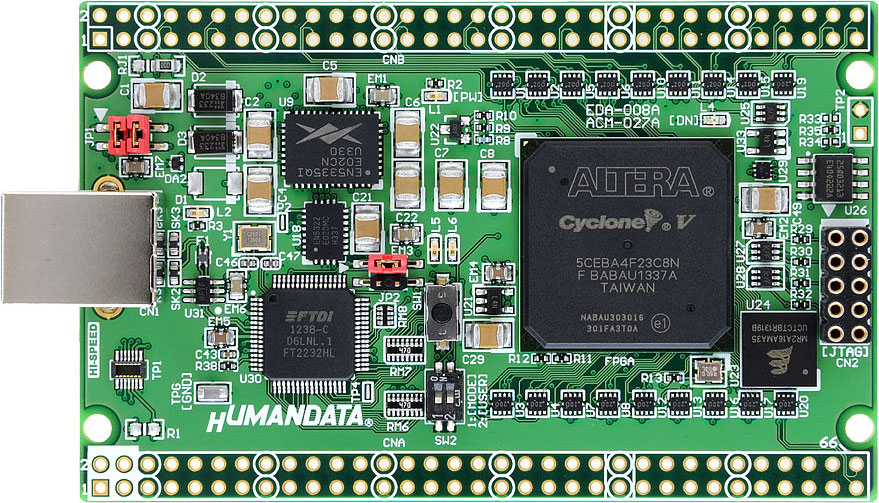button SW1: (424, 272, 460, 353)
capacitor C1: (131, 79, 184, 112)
capacitor C2: (245, 109, 276, 160)
capacitor C21: (352, 202, 383, 253)
capacitor C22: (393, 160, 422, 210)
capacitor C29: (463, 320, 512, 351)
capacitor C4: (245, 165, 275, 217)
capacitor C43: (218, 349, 238, 360)
capacitor C46: (239, 258, 258, 269)
capacitor C47: (261, 257, 281, 270)
capacitor C49: (740, 185, 790, 215)
capacitor C5: (305, 75, 355, 106)
capacitor C6: (392, 108, 423, 159)
capacitor C7: (436, 160, 466, 210)
capacitor C8: (479, 160, 509, 211)
component text" "1 2: (431, 409, 458, 421)
component text" "233 834DA: (197, 90, 229, 109), (198, 132, 228, 151)
component text" "25R03213 E400222A: (823, 158, 846, 199)
component text" "3 J: (454, 387, 462, 409)
component text" "ALTERA Cyclone V 5CEBA4F23C8N F BABAU1337A TAIWAN NABAU303016 3: (554, 163, 701, 336)
component text" "EN5322 E020MC H337: (311, 213, 340, 246)
component text" "EN5336QI E02CN U330: (295, 144, 365, 179)
component text" "FTDI 1238-C D6LNL.1 FT2232HL: (282, 306, 336, 362)
component text" "MR2A1BAMA35 UCTCT8R13198: (748, 322, 810, 343)
component text" "O N: (429, 374, 448, 382)
component text" 000: (160, 61, 170, 69)
component text" 470: (398, 400, 412, 410), (397, 346, 412, 354)
connector CN1: (1, 193, 156, 307)
connector CN2: (819, 219, 870, 344)
connector CNA: (89, 450, 869, 503)
connector CNB: (88, 6, 869, 51)
connector JP2: (351, 273, 426, 292)
connector TP2: (849, 98, 872, 146)
diode D2: (195, 84, 239, 116)
diode D3: (192, 126, 240, 158)
diode zener array" DA2: (165, 153, 183, 173)
emi filter" EM1: (368, 87, 399, 105)
emi filter" EM2: (743, 218, 775, 238)
emi filter" EM3: (391, 225, 422, 243)
emi filter" EM4: (482, 263, 515, 282)
emi filter" EM5: (204, 327, 237, 346)
emi filter" EM6: (228, 269, 246, 302)
emi filter" EM7: (121, 157, 152, 176)
ic F1: (195, 249, 212, 266)
ic FPGA: (518, 136, 734, 353)
ic TP1: (108, 345, 148, 392)
ic U1: (491, 71, 514, 98)
ic U10: (631, 71, 654, 98)
ic U11: (667, 70, 690, 98)
ic U12: (633, 390, 656, 417)
ic U13: (668, 391, 691, 418)
ic U14: (702, 71, 726, 98)
ic U15: (737, 70, 759, 98)
ic U16: (704, 391, 726, 417)
ic U17: (739, 391, 762, 417)
ic U18: (304, 202, 346, 261)
ic U19: (772, 70, 796, 98)
ic U2: (526, 71, 549, 98)
ic U20: (774, 390, 797, 418)
ic U21: (474, 286, 515, 315)
ic U22: (445, 116, 471, 144)
ic U23: (691, 355, 726, 386)
ic U24: (742, 312, 817, 387)
ic U25: (752, 100, 790, 125)
ic U26: (795, 154, 870, 202)
ic U27: (745, 238, 784, 264)
ic U28: (747, 265, 784, 290)
ic U29: (753, 160, 771, 181)
ic U3: (491, 390, 513, 418)
ic U30: (248, 274, 370, 394)
ic U31: (181, 276, 224, 306)
ic U33: (745, 127, 788, 157)
ic U4: (526, 390, 549, 417)
ic U5: (561, 71, 584, 98)
ic U6: (596, 71, 619, 98)
ic U7: (561, 389, 584, 418)
ic U8: (597, 389, 619, 417)
ic U9: (283, 113, 380, 185)
ic Y1: (234, 222, 275, 255)
jumper JP1: (127, 114, 167, 153), (95, 114, 128, 155)
jumper JP2: (354, 253, 425, 273)
led L1: (423, 91, 449, 103)
led L2: (184, 206, 211, 220)
led L4: (701, 113, 726, 126)
led L5: (429, 234, 441, 264)
led L6: (446, 235, 459, 263)
pads D1: (187, 166, 242, 200)
pads R1: (127, 420, 164, 438)
pads R33: (822, 114, 840, 124)
pads R34: (822, 137, 840, 147)
resistor R10: (474, 111, 494, 120)
resistor R11: (552, 353, 571, 363)
resistor R12: (531, 354, 551, 363)
resistor R13: (665, 374, 683, 383)
resistor R2: (426, 77, 445, 88)
resistor R29: (791, 235, 811, 244)
resistor R3: (188, 220, 208, 231)
resistor R30: (791, 257, 810, 267)
resistor R31: (791, 279, 810, 288)
resistor R32: (791, 300, 810, 310)
resistor R35: (822, 125, 839, 134)
resistor R38: (218, 360, 238, 372)
resistor R8: (475, 134, 494, 144)
resistor R9: (475, 123, 494, 133)
resistor jumper" RJ1: (128, 55, 185, 75)
resistor network" RM6: (384, 391, 426, 418)
resistor network" RM7: (384, 336, 425, 364)
resistor network" RM8: (375, 303, 395, 327)
switch SW2: (423, 362, 466, 431)
test point" P2: (278, 213, 288, 234)
test point" TP4: (363, 382, 373, 401)
test point" TPG: (195, 381, 232, 404)
text "ACM-027A: (584, 115, 663, 130)
text "EDA-008A: (582, 101, 663, 117)
text "HI-SPEED: (88, 322, 99, 378)
text "[DN]: (669, 114, 699, 126)
text "[GND]: (182, 373, 192, 410)
text "[JTAG]: (822, 346, 869, 358)
text "[PW]: (452, 89, 482, 102)
text .: (213, 306, 223, 316)
text 1: (466, 373, 478, 429), (78, 30, 91, 48), (80, 482, 89, 497)
text 2: (477, 372, 488, 430), (78, 7, 89, 23), (80, 458, 90, 472)
text 66: (818, 434, 839, 449)
text C1: (119, 82, 132, 98)
text C2: (245, 95, 261, 108)
text C21: (351, 190, 373, 203)
text C22: (394, 212, 419, 224)
text C29: (461, 354, 486, 366)
text C4: (277, 187, 288, 203)
text C43: (194, 349, 218, 359)
text C47: (277, 249, 301, 262)
text C49: (791, 202, 803, 225)
text C5: (321, 59, 340, 72)
text C6: (403, 96, 421, 108)
text C7: (434, 147, 450, 159)
text C8: (480, 148, 496, 159)
text CN1: (139, 307, 160, 318)
text CN2: (835, 357, 860, 369)
text CNA: (381, 436, 407, 449)
text CNB: (381, 52, 407, 66)
text D1: (174, 191, 186, 206)
text D2: (191, 70, 208, 84)
text D3: (176, 130, 188, 147)
text DA2: (164, 173, 188, 184)
text EM1: (365, 69, 389, 85)
text EM2: (778, 216, 789, 240)
text EM3: (389, 243, 415, 257)
text EM4: (468, 260, 480, 283)
text EM5: (205, 316, 232, 327)
text EM6: (223, 302, 246, 315)
text EM7: (154, 155, 165, 178)
text FPGA: (603, 356, 636, 367)
text HUMANDATA: (203, 403, 373, 434)
text JP1: (85, 127, 95, 148)
text JP2: (376, 289, 402, 304)
text L1: (427, 103, 443, 115)
text L2: (215, 206, 233, 218)
text L4: (701, 100, 716, 114)
text L5: (429, 215, 442, 234)
text L6: (447, 216, 459, 234)
text P2: (276, 202, 292, 213)
text R1: (166, 426, 181, 440)
text R10: (495, 110, 518, 122)
text R11: (572, 353, 592, 365)
text R12: (508, 353, 530, 364)
text R13: (640, 372, 663, 384)
text R2: (448, 78, 464, 90)
text R29: (790, 224, 815, 235)
text R3: (208, 220, 223, 232)
text R30: (789, 246, 814, 258)
text R31: (790, 267, 810, 278)
text R32: (790, 288, 813, 299)
text R33: (798, 112, 821, 125)
text R34: (796, 136, 823, 148)
text R35: (798, 126, 822, 137)
text R38: (194, 360, 218, 372)
text R8: (494, 135, 511, 146)
text R9: (493, 122, 511, 135)
text RJ1: (115, 54, 130, 76)
text RM6: (385, 420, 410, 434)
text RM7: (389, 366, 413, 378)
text RM8: (397, 305, 408, 329)
text SK2: (170, 288, 181, 311)
text SK3: (169, 205, 182, 230)
text SW1: (411, 291, 423, 311)
text SW2: (433, 433, 458, 448)
text TP1: (151, 360, 162, 381)
text TP2: (834, 89, 846, 113)
text TP4: (349, 381, 361, 405)
text TPG: (170, 382, 181, 406)
text U1: (515, 86, 526, 99)
text U10: (655, 77, 667, 100)
text U11: (690, 79, 701, 100)
text U12: (657, 396, 667, 419)
text U13: (692, 396, 702, 418)
text U14: (726, 77, 736, 99)
text U15: (759, 76, 771, 98)
text U16: (729, 395, 739, 419)
text U17: (763, 396, 774, 419)
text U18: (291, 224, 302, 248)
text U19: (796, 76, 807, 100)
text U2: (548, 83, 561, 100)
text U20: (798, 394, 810, 419)
text U21: (462, 297, 473, 317)
text U22: (429, 121, 440, 147)
text U23: (728, 364, 740, 388)
text U24: (745, 298, 771, 311)
text U25: (739, 100, 751, 126)
text U26: (844, 205, 868, 217)
text U27: (734, 239, 745, 264)
text U28: (734, 265, 746, 290)
text U29: (776, 160, 789, 183)
text U3: (514, 400, 526, 419)
text U30: (239, 373, 262, 385)
text U31: (183, 307, 205, 318)
text U33: (735, 129, 746, 153)
text U4: (550, 402, 560, 418)
text U5: (584, 81, 595, 99)
text U6: (619, 82, 631, 100)
text U7: (584, 401, 595, 418)
text U8: (620, 401, 632, 419)
text U9: (277, 95, 295, 107)
text Y1: (221, 228, 234, 243)
text triangle: (820, 203, 838, 218), (92, 107, 110, 121), (337, 263, 350, 273)
unknown SK2: (168, 259, 182, 287)
unknown SK3: (167, 231, 181, 260)
